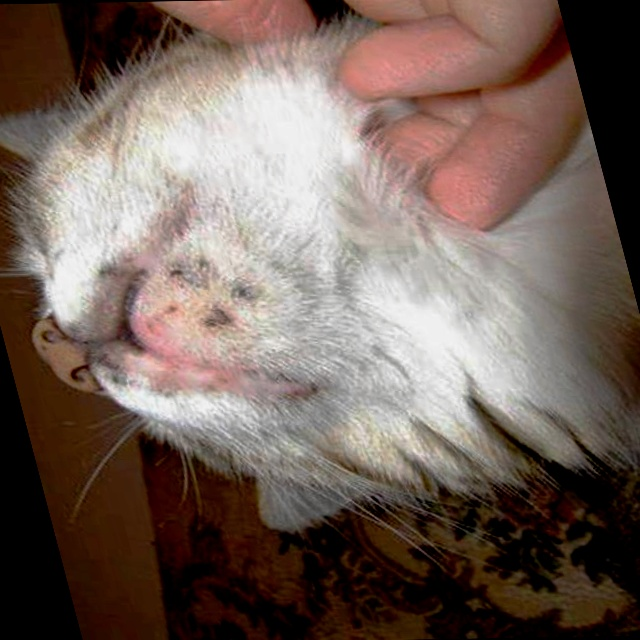acne: (166, 249, 265, 329)
